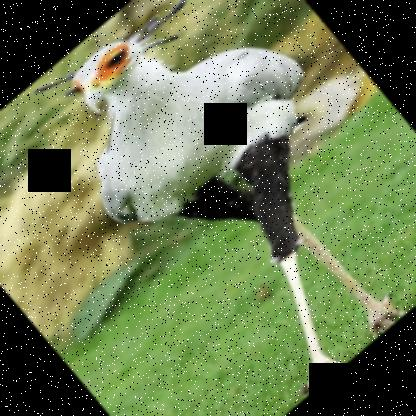Sagittarius serpentarius: (14, 0, 415, 415)
